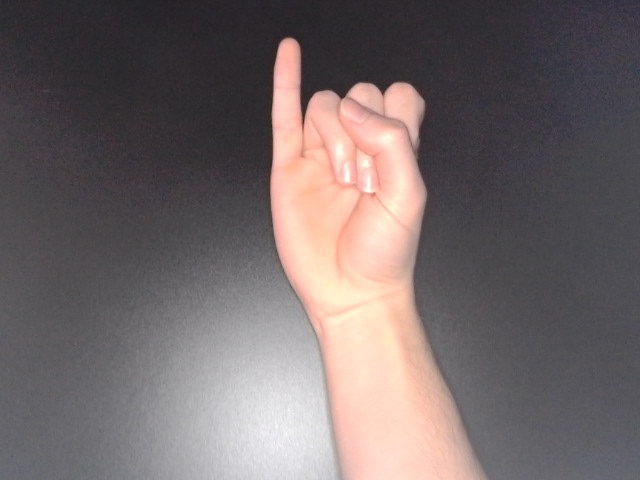i: (265, 34, 432, 335)
